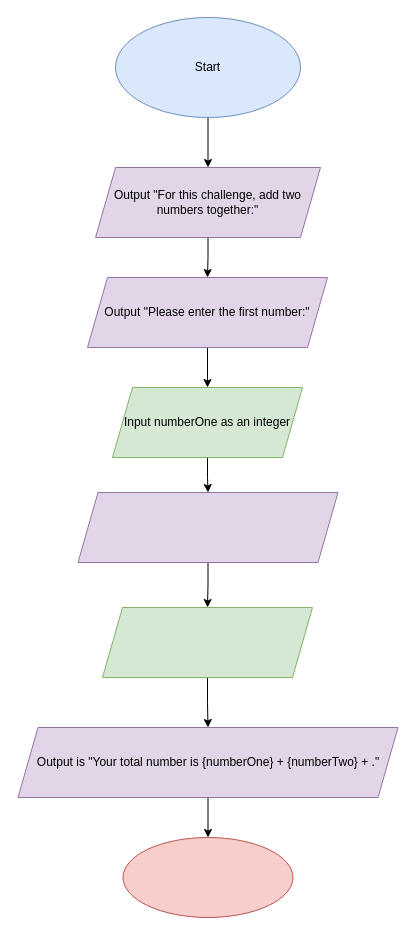
Some shapes in this 415 by 935 pixel diagram are drawn without their labels. The centre of each missing label's shape, as x and y in pixels:
End Process: the point at 207,877
Input numberTwo as an integer: the point at 207,642
Output "Please enter the second number:": the point at 207,527
